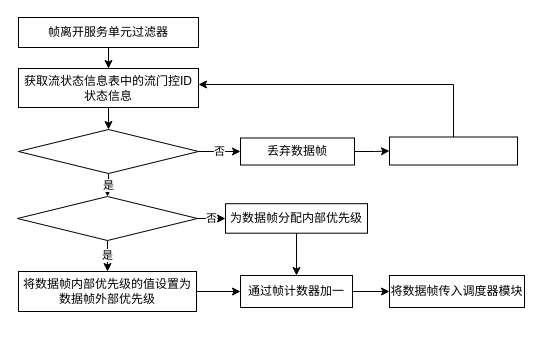
Some shapes in this 542 by 345 pixel diagram are drawn without their labels. The shapes that lost their labels are listed below. From the top down, each one's centre as x and y in pixels, then its label:
At (108,151): "流门控状态是否为OPEN".
At (453,150): "未通过帧计数器加一".
At (107,218): "流门控内部优先级是否 为NULL".
